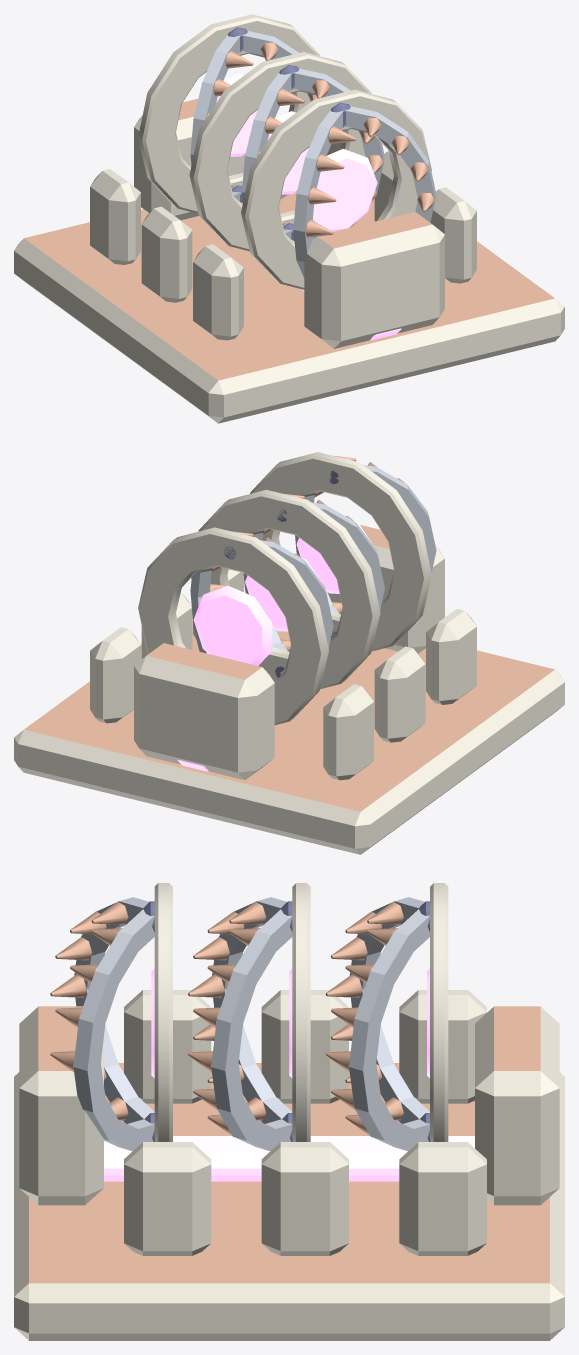
File: R4X_SnareTrapDeployer_LOD1.fbx
3 views of the same model, one above another, from view 1: azimuth 30°, elevation 25°; view 2: azimuth 150°, elevation 25°; view 3: azimuth 270°, elevation 25° (orthographic). The views are drawn at different scales.
Parts seen in each view (by area): view 1: R4X_SnareTrapDeployer_LOD1; view 2: R4X_SnareTrapDeployer_LOD1; view 3: R4X_SnareTrapDeployer_LOD1.
Boxes of the visible parts, bbox=[...] form: R4X_SnareTrapDeployer_LOD1: bbox=[14, 14, 564, 423]; R4X_SnareTrapDeployer_LOD1: bbox=[14, 452, 564, 854]; R4X_SnareTrapDeployer_LOD1: bbox=[14, 883, 564, 1340].
Size of the model in its own units: 0.52 by 0.3479 by 0.52.
